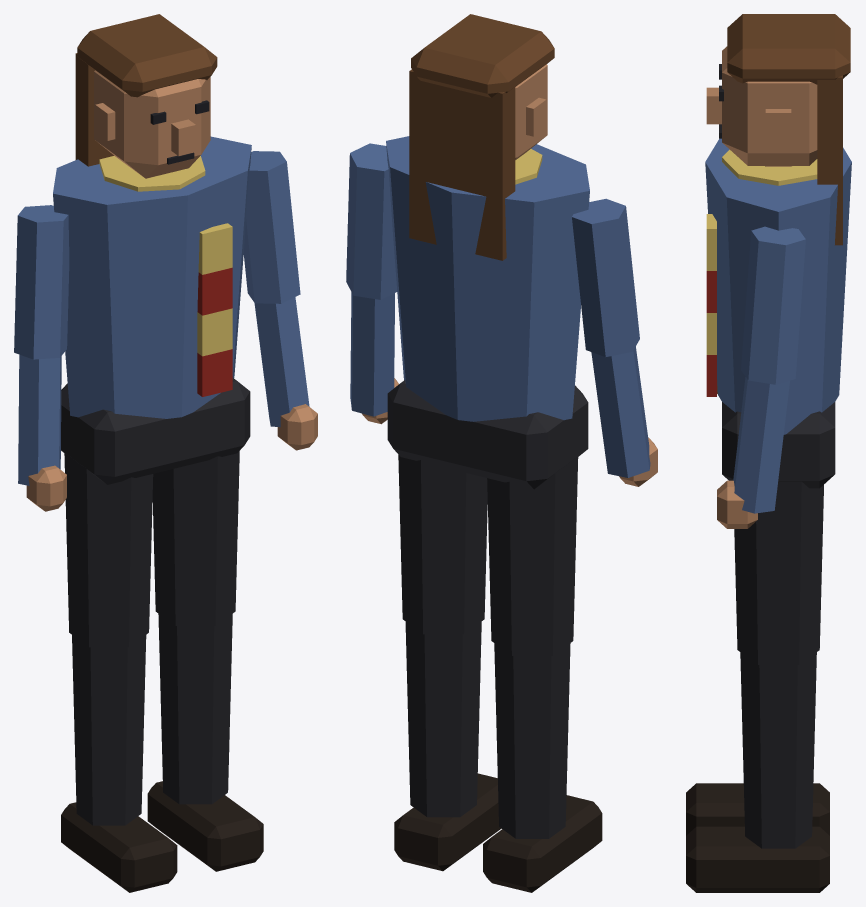
The model's file is person.res-student.glb.
3 views of the same model, side by side, from view 1: azimuth 30°, elevation 25°; view 2: azimuth 150°, elevation 25°; view 3: azimuth 270°, elevation 25° (orthographic). The views are drawn at different scales.
Parts seen in each view (by area): view 1: torso, thigh-1, thigh1, shin1, shin-1, hips, upper-1, hair, head, upper1, shoe-1, shoe1 (+12 smaller); view 2: torso, thigh-1, thigh1, hair-back, shin1, shin-1, hips, upper-1, hair, upper1, shoe-1, fore-1 (+5 smaller); view 3: torso, thigh1, shin1, upper1, shoe1, hair, head, fore1, hips, shoe-1, hair-back, scarf (+7 smaller).
Part boxes in pixels (x1,y1,x2,y2): torso: (53,136,251,418); thigh-1: (64,453,153,647); thigh1: (152,451,239,625); shin1: (158,613,232,804); shin-1: (72,635,146,825); hips: (61,378,250,484); upper-1: (14,205,69,359); hair: (77,14,217,97); head: (94,70,210,178); upper1: (243,151,300,303); shoe-1: (61,802,177,892); shoe1: (147,781,263,871); torso: (386,136,589,421); thigh-1: (487,456,578,655); thigh1: (398,454,487,634); hair-back: (409,69,515,260); shin1: (405,622,481,817); shin-1: (494,643,570,838); hips: (387,380,588,489); upper-1: (572,198,639,356); hair: (411,14,554,97); upper1: (346,143,397,299); shoe-1: (483,795,602,892); fore-1: (591,346,650,477); torso: (705,138,851,434); thigh1: (734,481,823,664); shin1: (740,652,816,848); upper1: (741,226,805,384); shoe1: (686,826,829,892); hair: (727,14,850,84); head: (722,46,817,165); fore1: (733,377,789,513); hips: (722,402,835,488); shoe-1: (686,783,829,835); hair-back: (817,75,842,245); scarf: (722,149,817,185).
Bounding box in the file's own units: 0.6746 × 1.78 × 0.3226.
